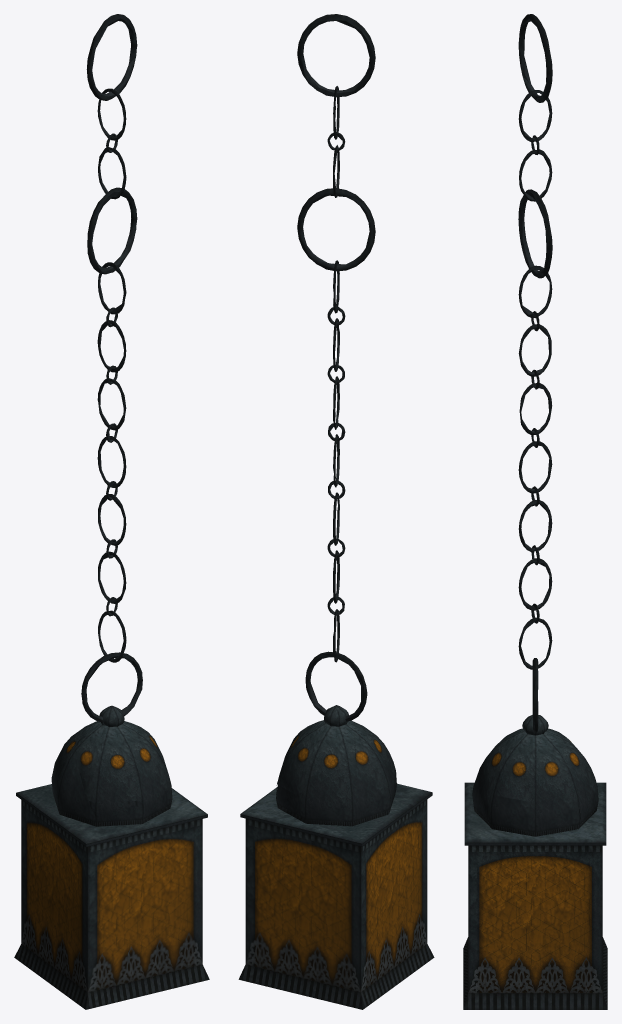
Rendered from Lamp 1.FBX.
The picture shows the model from 3 angles, left to right: view 1: azimuth 30°, elevation 25°; view 2: azimuth 150°, elevation 25°; view 3: azimuth 270°, elevation 25°; orthographic projection.
Parts seen in each view (by area): view 1: Lamp 1; view 2: Lamp 1; view 3: Lamp 1.
Part boxes in pixels (x1,y1,x2,y2): Lamp 1: (14,14,209,1009); Lamp 1: (238,14,434,1009); Lamp 1: (463,14,607,1009).
Size of the model in its own units: 17.93 by 131 by 17.91.
1 material, 1 textured.
